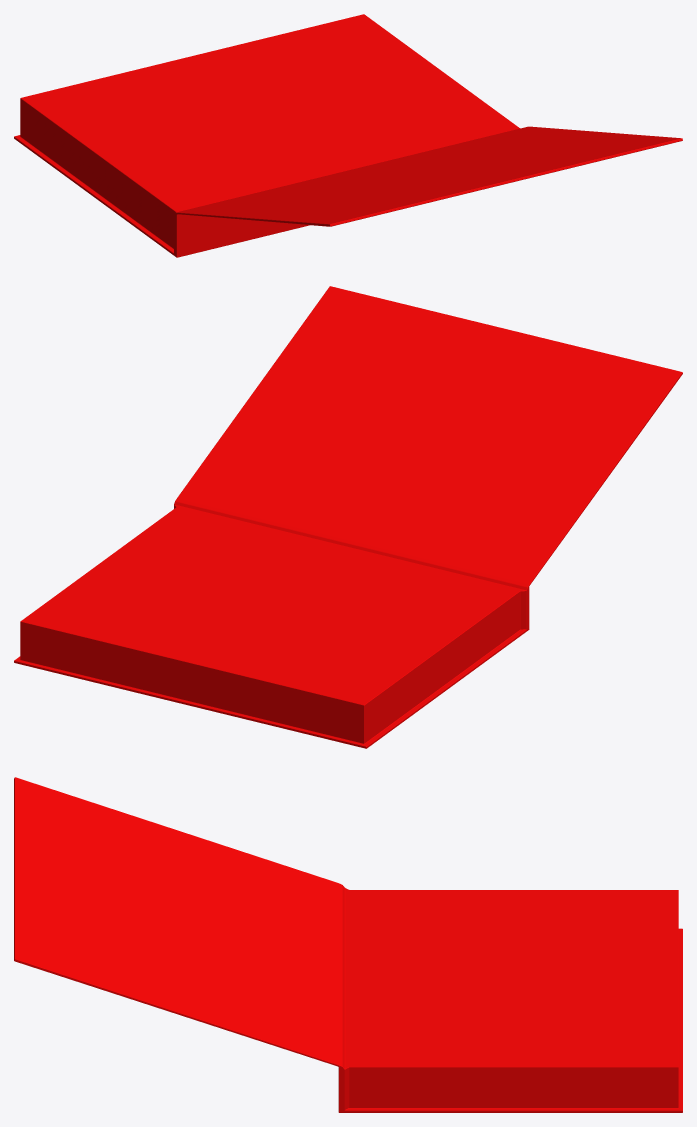
Rendered from umgebung_buch_offen_low.FBX.
The picture shows the model from 3 angles, top to bottom: view 1: azimuth 30°, elevation 25°; view 2: azimuth 150°, elevation 25°; view 3: azimuth 270°, elevation 25°; orthographic projection. The views are drawn at different scales.
Parts seen in each view (by area): view 1: o_buch_offen_low; view 2: o_buch_offen_low; view 3: o_buch_offen_low.
Part boxes in pixels (<box>): o_buch_offen_low: <box>14,14,682,257</box>; o_buch_offen_low: <box>14,286,682,748</box>; o_buch_offen_low: <box>14,777,682,1112</box>.
Size of the model in its own units: 54.83 by 85.19 by 21.63.
